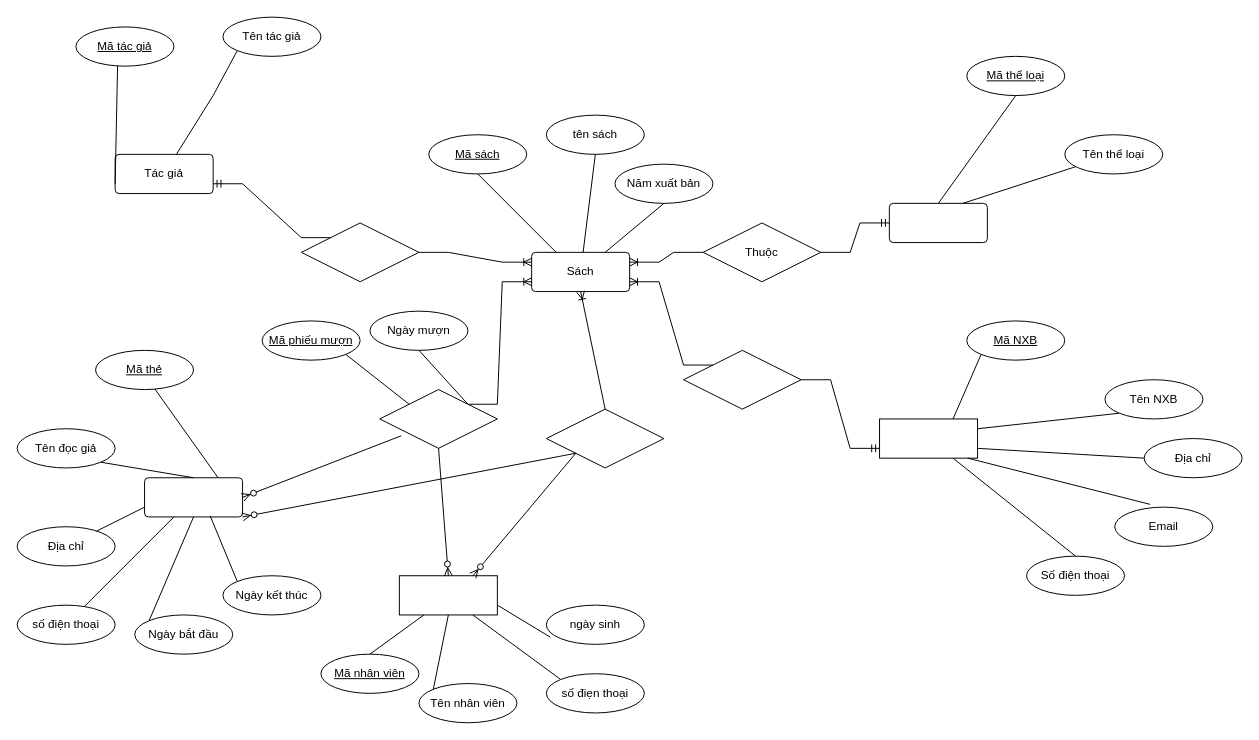
The diagram is 1259 pixels wide and 740 high, and some of its shapes have lost their labels. Each missing label, with the centre of its shape:
"Mượn" belongs at point (438, 418).
"Nhà xuất bản" belongs at point (928, 438).
"Nhân viên" belongs at point (447, 595).
"Thẻ thư viện" belongs at point (193, 497).
"Thể loại" belongs at point (937, 222).
"Trả" belongs at point (604, 438).
"Viết" belongs at point (359, 252).
"Xuất bản" belongs at point (742, 379).
